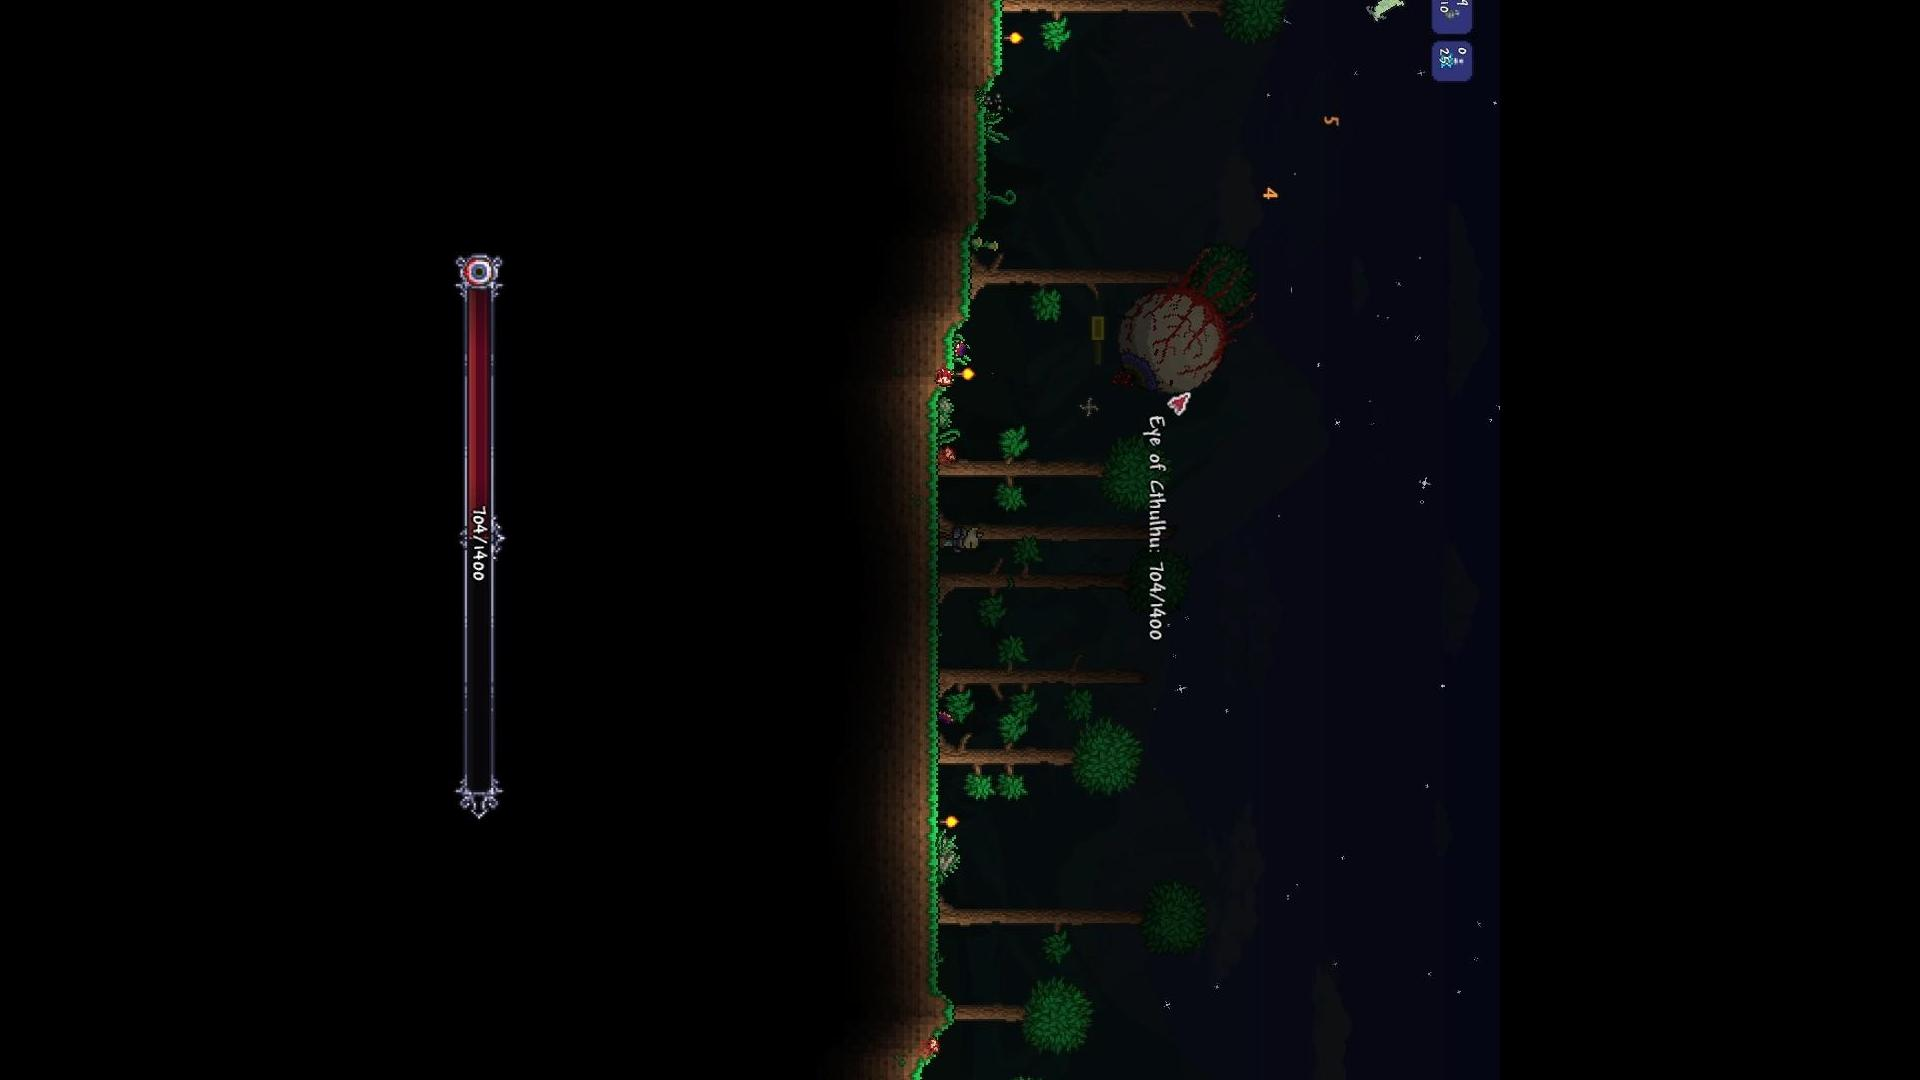eyeC: (1109, 244, 1269, 400)
